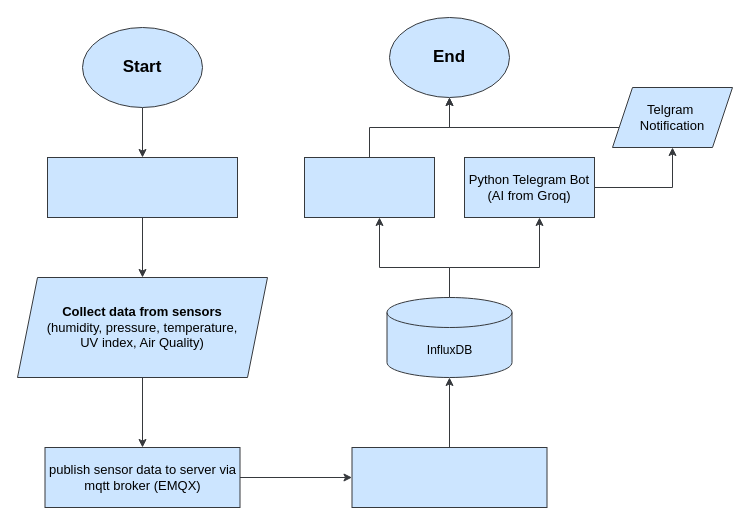
The diagram is 750 pixels wide and 525 high, and some of its shapes have lost their labels. The shapes that lost their labels are listed below. From the top down, each one's box as (x1, y1, x2, y2) in pixels, then its label:
(46, 156, 238, 218): Initialize the microcontroller and sensors & connect to Wi-Fi
(304, 156, 434, 218): Data visualization & Monitoring with Grafana
(351, 446, 547, 508): Subscribe sensor data with telegraf
